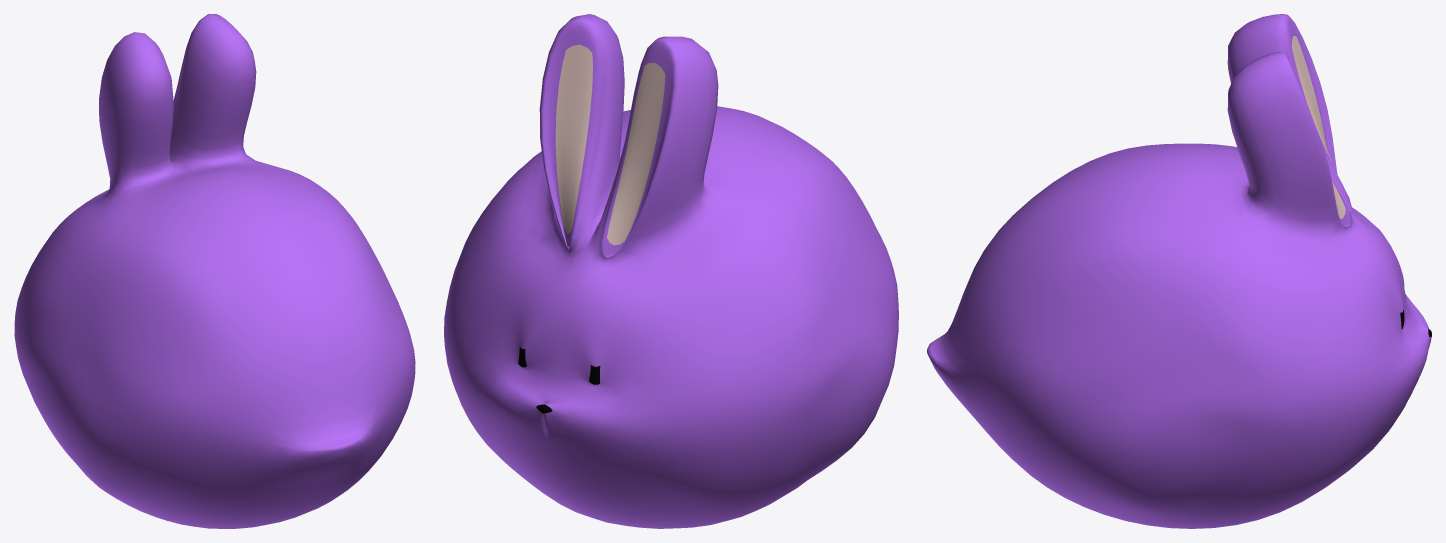
The model's file is prey_44.glb.
3 renders of one model, left to right at view 1: azimuth 30°, elevation 25°; view 2: azimuth 150°, elevation 25°; view 3: azimuth 270°, elevation 25°, orthographic. The views are drawn at different scales.
Visible parts, largest first — view 1: Cube; view 2: Cube; view 3: Cube.
Part boxes in pixels (box(x1,y1,x2,y2)): Cube: box(14, 14, 415, 528); Cube: box(444, 14, 898, 528); Cube: box(927, 14, 1431, 528).
Bounding box in the file's own units: 4.03 × 5.34 × 5.15.
